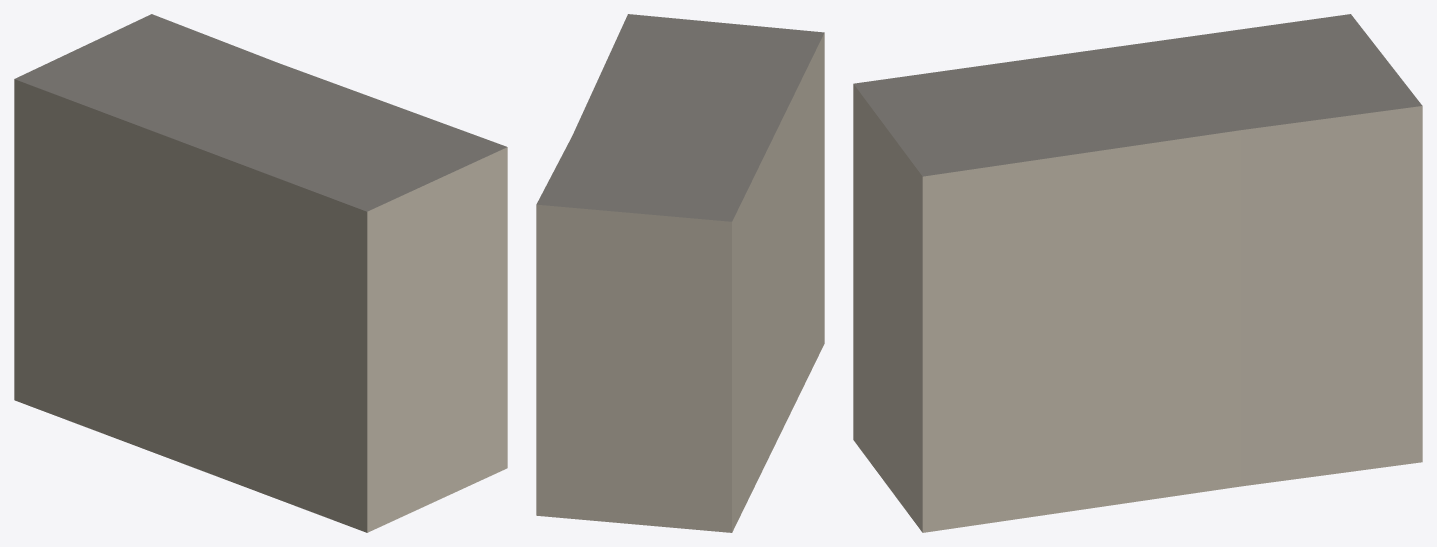
3 renders of one model, left to right at view 1: azimuth 30°, elevation 25°; view 2: azimuth 150°, elevation 25°; view 3: azimuth 270°, elevation 25°, orthographic. The views are drawn at different scales.
Parts seen in each view (by area): view 1: HP-w1197061589; view 2: HP-w1197061589; view 3: HP-w1197061589.
Boxes of the visible parts, x1,y1,x2,y2 form: HP-w1197061589: [14, 14, 507, 532]; HP-w1197061589: [536, 14, 824, 532]; HP-w1197061589: [853, 14, 1422, 532].
Bounding box in the file's own units: 17.62 × 18 × 26.06.
